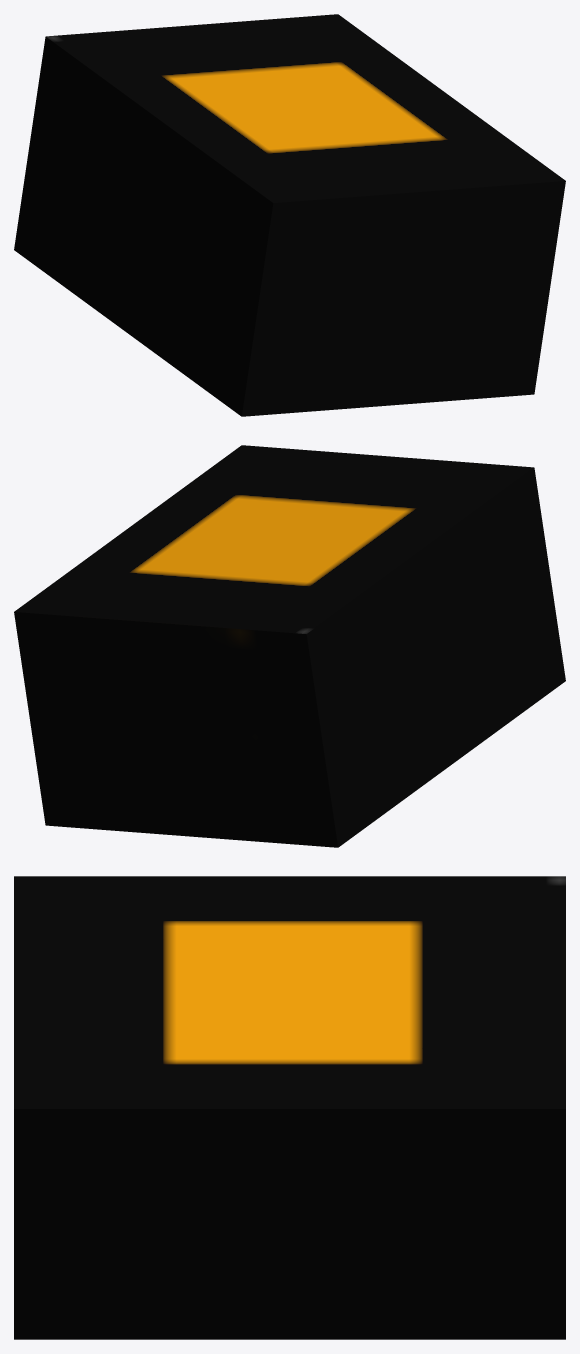
Rendered from salt-button-stop.glb.
The picture shows the model from 3 angles, top to bottom: view 1: azimuth 30°, elevation 25°; view 2: azimuth 150°, elevation 25°; view 3: azimuth 270°, elevation 25°; orthographic projection. The views are drawn at different scales.
Parts seen in each view (by area): view 1: ButtonSaltStop; view 2: ButtonSaltStop; view 3: ButtonSaltStop.
Part boxes in pixels (left/top/right/bottom): ButtonSaltStop: left=14, top=14, right=565, bottom=416; ButtonSaltStop: left=14, top=445, right=565, bottom=847; ButtonSaltStop: left=14, top=876, right=565, bottom=1339.
Size of what is drawn, in the model's own units: 0.1845 by 0.1387 by 0.2246.
1 material, 1 textured.
